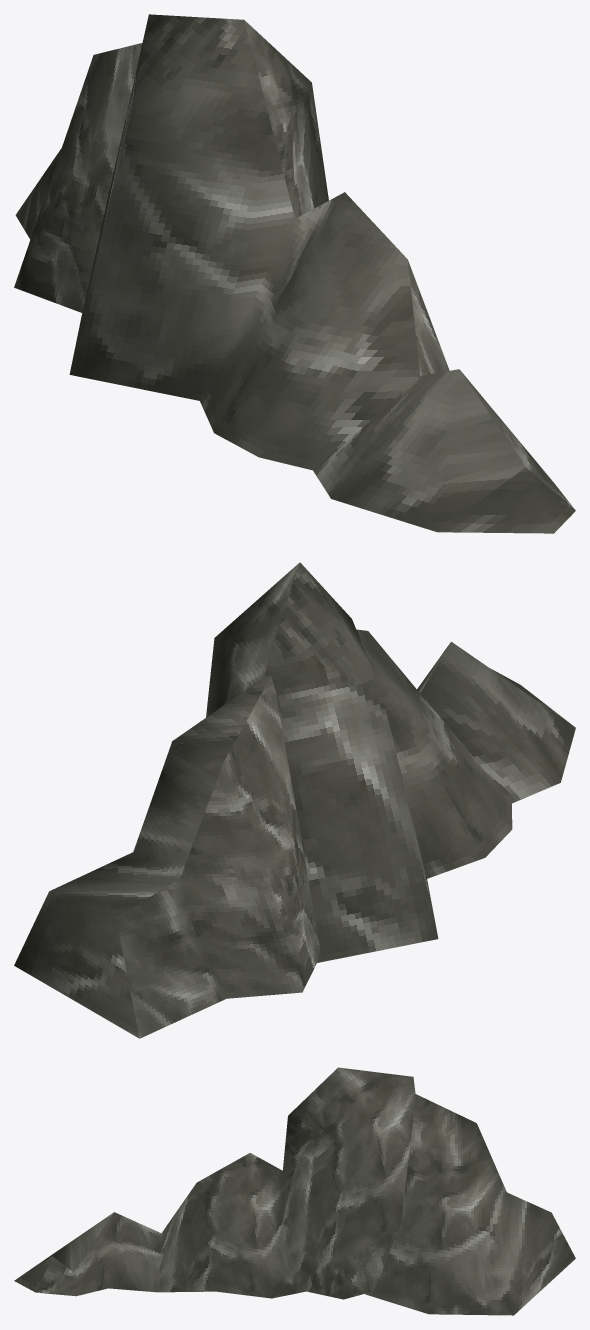
The model's file is hasl_shitou_02.FBX.
3 views of the same model, one above another, from view 1: azimuth 30°, elevation 25°; view 2: azimuth 150°, elevation 25°; view 3: azimuth 270°, elevation 25° (orthographic). The views are drawn at different scales.
Parts seen in each view (by area): view 1: hasl_shitou_02; view 2: hasl_shitou_02; view 3: hasl_shitou_02.
Part boxes in pixels (<box>): hasl_shitou_02: <box>14,14,575,533</box>; hasl_shitou_02: <box>14,562,575,1038</box>; hasl_shitou_02: <box>14,1067,575,1315</box>.
Bounding box in the file's own units: 1704 × 1819 × 4517.
